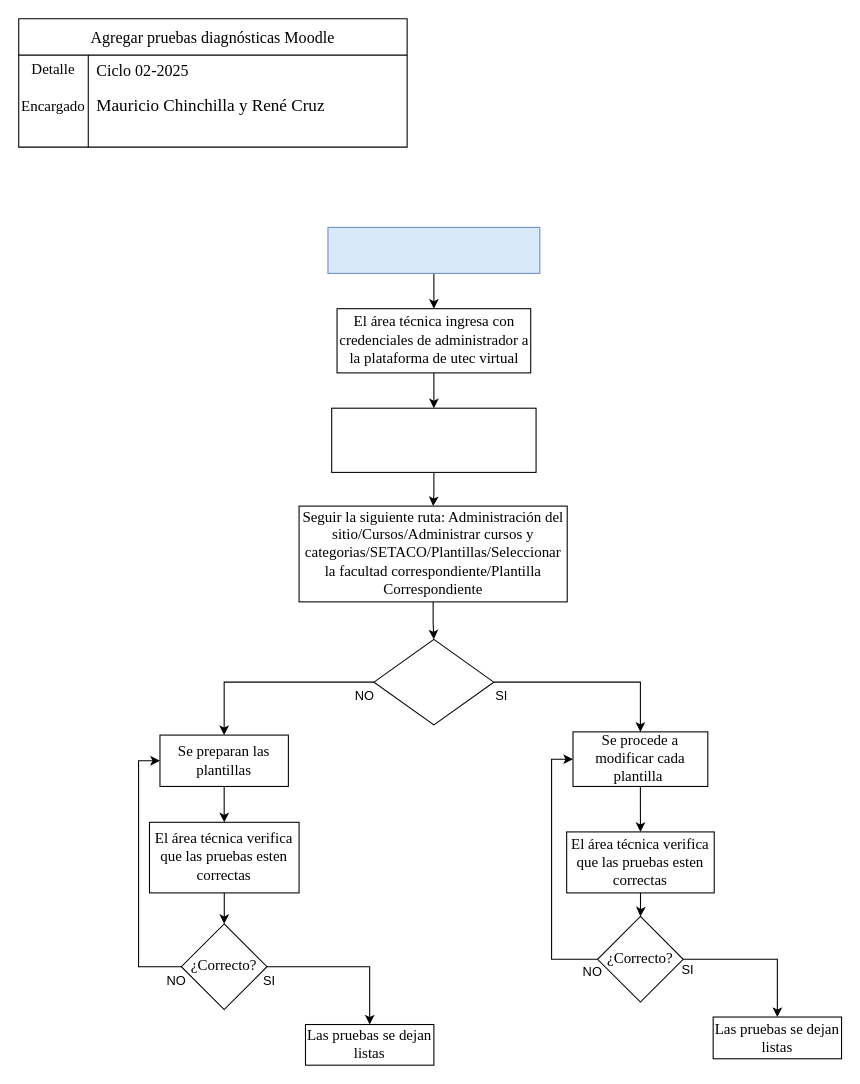
Some shapes in this 860 by 1084 pixel diagram are drawn without their labels. Each missing label, with the centre of its shape:
En el selector escroger la opción "FACS-FADD-SETACO-CURSOS LIBRES: (433,439)
Preparar plantillas de Diagnosticas en Moodle: (433,249)
¿Actualización?: (433,681)
